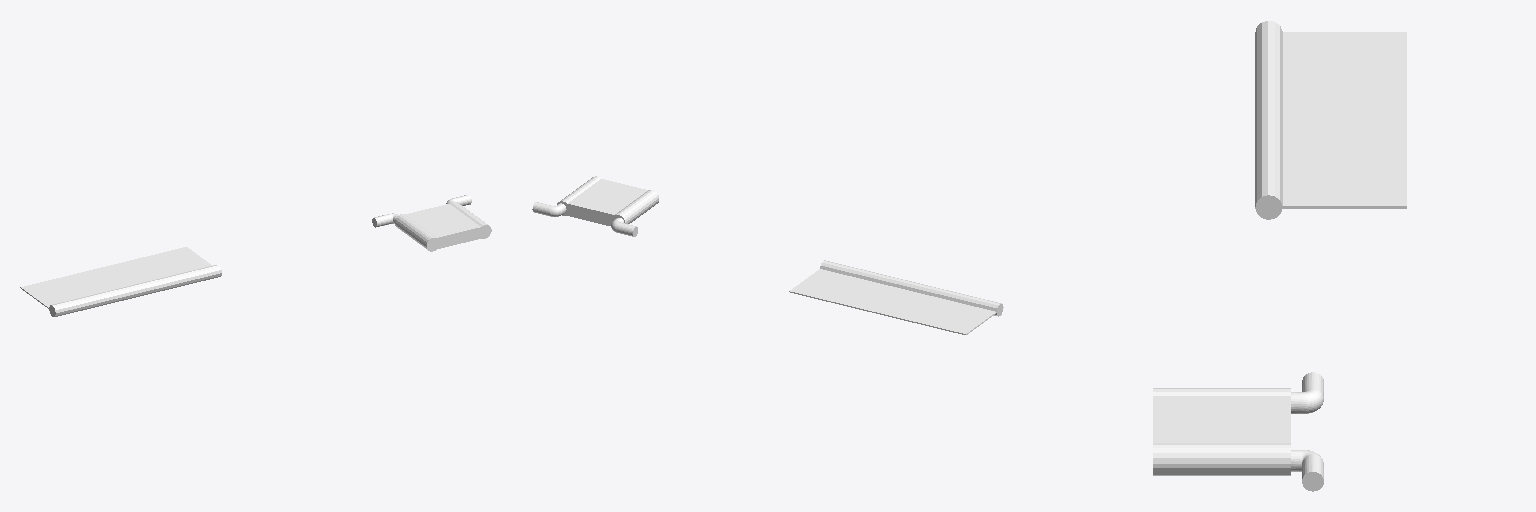
URDF robot description (URDF_Bodies):
<?xml version="1.0" encoding="utf-8"?>
<!-- This URDF was automatically created by SolidWorks to URDF Exporter! Originally created by [author] ([email redacted]) 
     Commit Version: 1.6.0-4-g7f85cfe  Build Version: 1.6.7995.38578
     For more information, please see http://wiki.ros.org/sw_urdf_exporter -->
<robot
  name="URDF_Bodies">
  <link
    name="base_link">
    <inertial>
      <origin
        xyz="1.18081715738015E-18 -0.0125 3.31698102144784E-19"
        rpy="0 0 0" />
      <mass
        value="0.00375126000883085" />
      <inertia
        ixx="2.03613705094794E-07"
        ixy="-2.63663820251277E-24"
        ixz="1.61442194776398E-40"
        iyy="2.70935390886525E-07"
        iyz="6.95893500210631E-24"
        izz="4.58077936711611E-07" />
    </inertial>
    <visual>
      <origin
        xyz="0 0 0"
        rpy="0 0 0" />
      <geometry>
        <mesh
          filename="package://URDF_Bodies/meshes/base_link.STL" />
      </geometry>
      <material
        name="">
        <color
          rgba="1 1 1 1" />
      </material>
    </visual>
    <collision>
      <origin
        xyz="0 0 0"
        rpy="0 0 0" />
      <geometry>
        <mesh
          filename="package://URDF_Bodies/meshes/base_link.STL" />
      </geometry>
    </collision>
  </link>
  <link
    name="RW_Flap">
    <inertial>
      <origin
        xyz="0.0156057597241795 0.0034001458033575 -1.3850164634205E-19"
        rpy="0 0 0" />
      <mass
        value="0.000155627268196262" />
      <inertia
        ixx="4.74272194335383E-10"
        ixy="-3.11441094664687E-10"
        ixz="2.90754063791994E-27"
        iyy="1.63660400355119E-09"
        iyz="1.75590052600086E-26"
        izz="1.79962166149405E-09" />
    </inertial>
    <visual>
      <origin
        xyz="0 0 0"
        rpy="0 0 0" />
      <geometry>
        <mesh
          filename="package://URDF_Bodies/meshes/RW_Flap.STL" />
      </geometry>
      <material
        name="">
        <color
          rgba="1 1 1 1" />
      </material>
    </visual>
    <collision>
      <origin
        xyz="0 0 0"
        rpy="0 0 0" />
      <geometry>
        <mesh
          filename="package://URDF_Bodies/meshes/RW_Flap.STL" />
      </geometry>
    </collision>
  </link>
  <joint
    name="RW_Flap"
    type="revolute">
    <origin
      xyz="0 0 0"
      rpy="0 0 0" />
    <parent
      link="base_link" />
    <child
      link="RW_Flap" />
    <axis
      xyz="0 -1 0" />
    <limit
      lower="0"
      upper="0"
      effort="0"
      velocity="0" />
  </joint>
  <link
    name="RW_Pitch">
    <inertial>
      <origin
        xyz="2.24568426444422E-19 -0.00100833700983606 0.0375"
        rpy="0 0 0" />
      <mass
        value="0.00236285860241809" />
      <inertia
        ixx="1.24968886529E-06"
        ixy="-5.80940508974298E-24"
        ixz="3.02468933762989E-24"
        iyy="1.10995489616372E-06"
        iyz="1.05324845357289E-23"
        izz="1.44463821686765E-07" />
    </inertial>
    <visual>
      <origin
        xyz="0 0 0"
        rpy="0 0 0" />
      <geometry>
        <mesh
          filename="package://URDF_Bodies/meshes/RW_Pitch.STL" />
      </geometry>
      <material
        name="">
        <color
          rgba="1 1 1 1" />
      </material>
    </visual>
    <collision>
      <origin
        xyz="0 0 0"
        rpy="0 0 0" />
      <geometry>
        <mesh
          filename="package://URDF_Bodies/meshes/RW_Pitch.STL" />
      </geometry>
    </collision>
  </link>
  <joint
    name="RW_Pitch"
    type="revolute">
    <origin
      xyz="0.0213291561975888 0 0"
      rpy="0 1.5707963267949 0" />
    <parent
      link="RW_Flap" />
    <child
      link="RW_Pitch" />
    <axis
      xyz="0 0 -1" />
    <limit
      lower="0"
      upper="0"
      effort="0"
      velocity="0" />
  </joint>
  <link
    name="LW_Flap">
    <inertial>
      <origin
        xyz="0.0156057597241795 0.0034001458033575 2.18897362057492E-18"
        rpy="0 0 0" />
      <mass
        value="0.000155627268196262" />
      <inertia
        ixx="4.74272194335383E-10"
        ixy="-3.11441094664687E-10"
        ixz="-1.97534871550618E-25"
        iyy="1.63660400355119E-09"
        iyz="-4.05435150469755E-26"
        izz="1.79962166149405E-09" />
    </inertial>
    <visual>
      <origin
        xyz="0 0 0"
        rpy="0 0 0" />
      <geometry>
        <mesh
          filename="package://URDF_Bodies/meshes/LW_Flap.STL" />
      </geometry>
      <material
        name="">
        <color
          rgba="1 1 1 1" />
      </material>
    </visual>
    <collision>
      <origin
        xyz="0 0 0"
        rpy="0 0 0" />
      <geometry>
        <mesh
          filename="package://URDF_Bodies/meshes/LW_Flap.STL" />
      </geometry>
    </collision>
  </link>
  <joint
    name="LW_Flap"
    type="revolute">
    <origin
      xyz="0 0 0"
      rpy="3.14159265358979 0 3.14159265358979" />
    <parent
      link="base_link" />
    <child
      link="LW_Flap" />
    <axis
      xyz="0 -1 0" />
    <limit
      lower="0"
      upper="0"
      effort="0"
      velocity="0" />
  </joint>
  <link
    name="LW_Pitch">
    <inertial>
      <origin
        xyz="2.24568426444422E-19 -0.00100833700983606 0.0375"
        rpy="0 0 0" />
      <mass
        value="0.00236285860241809" />
      <inertia
        ixx="1.24968886529E-06"
        ixy="-5.80940508974298E-24"
        ixz="3.02468933762989E-24"
        iyy="1.10995489616372E-06"
        iyz="1.47624932070643E-23"
        izz="1.44463821686765E-07" />
    </inertial>
    <visual>
      <origin
        xyz="0 0 0"
        rpy="0 0 0" />
      <geometry>
        <mesh
          filename="package://URDF_Bodies/meshes/LW_Pitch.STL" />
      </geometry>
      <material
        name="">
        <color
          rgba="1 1 1 1" />
      </material>
    </visual>
    <collision>
      <origin
        xyz="0 0 0"
        rpy="0 0 0" />
      <geometry>
        <mesh
          filename="package://URDF_Bodies/meshes/LW_Pitch.STL" />
      </geometry>
    </collision>
  </link>
  <joint
    name="LW_Pitch"
    type="revolute">
    <origin
      xyz="0.0963291561975888 0 0"
      rpy="3.14159265358979 -1.5707963267949 0" />
    <parent
      link="LW_Flap" />
    <child
      link="LW_Pitch" />
    <axis
      xyz="0 0 1" />
    <limit
      lower="0"
      upper="0"
      effort="0"
      velocity="0" />
  </joint>
</robot>

--- What the picture shows (computed from the rendered views, not written in the file) ---
Views: 3 orthographic renders of the robot side by side, from view 1: azimuth 30°, elevation 25°; view 2: azimuth 150°, elevation 25°; view 3: azimuth 270°, elevation 25°.
Model URDF_Bodies with 5 links and 4 joints (4 revolute), rooted at base_link, posed all joints at 0.
Links seen in each view (by area): view 1: LW_Pitch, base_link; view 2: LW_Pitch, base_link; view 3: LW_Pitch, base_link, RW_Flap, LW_Flap.
Link boxes in pixels (x1,y1,x2,y2): LW_Pitch: (20, 247, 221, 316); base_link: (395, 201, 491, 251); LW_Pitch: (789, 260, 1003, 334); base_link: (557, 176, 658, 225); LW_Pitch: (1255, 21, 1406, 219); base_link: (1153, 388, 1290, 475); RW_Flap: (1291, 450, 1323, 491); LW_Flap: (1291, 372, 1323, 413).
Size in the robot's own frame: 0.1927 by 0.046 by 0.006 metres.
Meshes: 5 distinct files referenced, 4 mesh visuals loaded (4 binary STL); not drawn: 1 (reference not matched to a file when rendering).